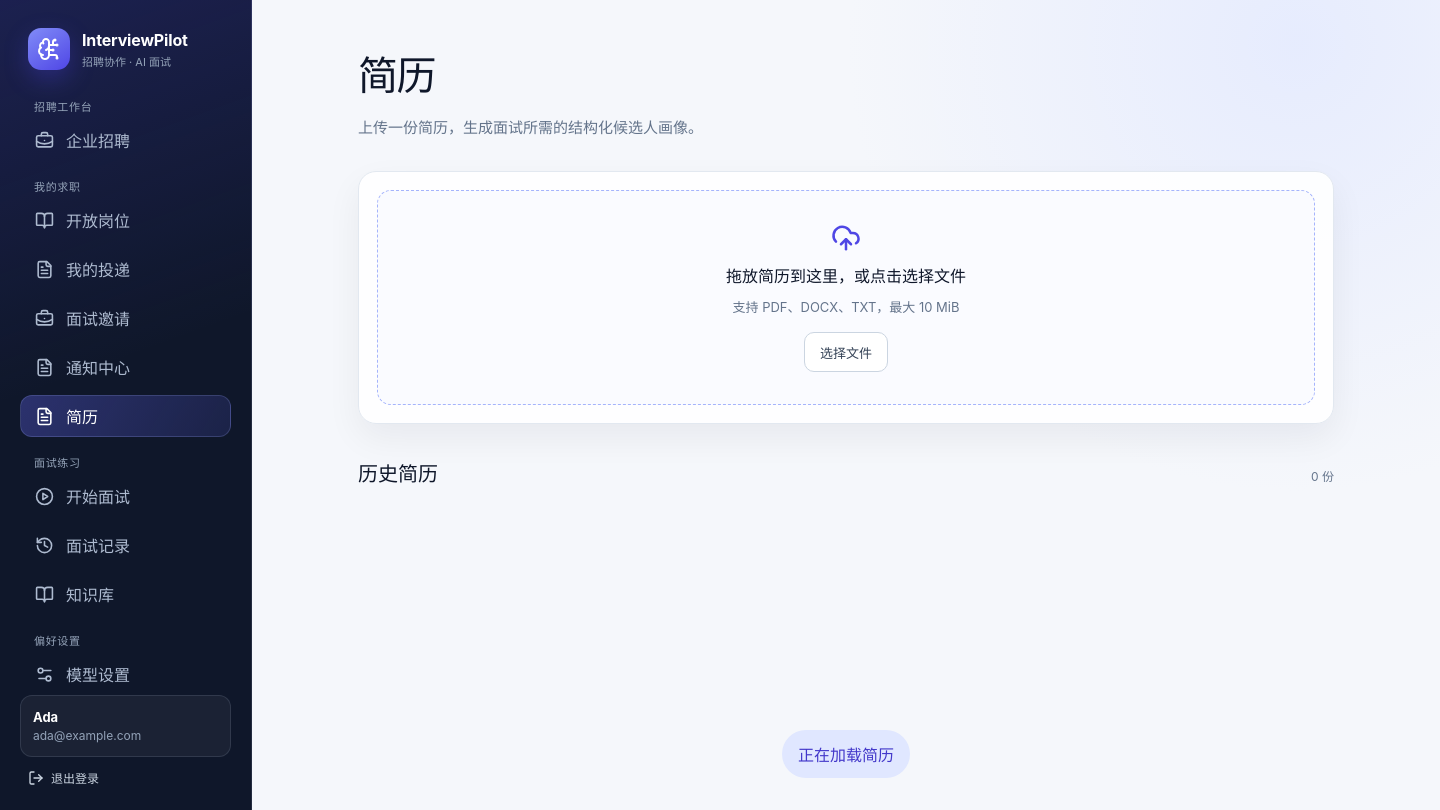
Test: 应用壳层 › 退出后清除登录状态并回到登录页
Check: the heading "简历" is shown, box [358,51,435,100]
Click the button "退出登录".
click(64, 778)  # box [28,769,99,786]
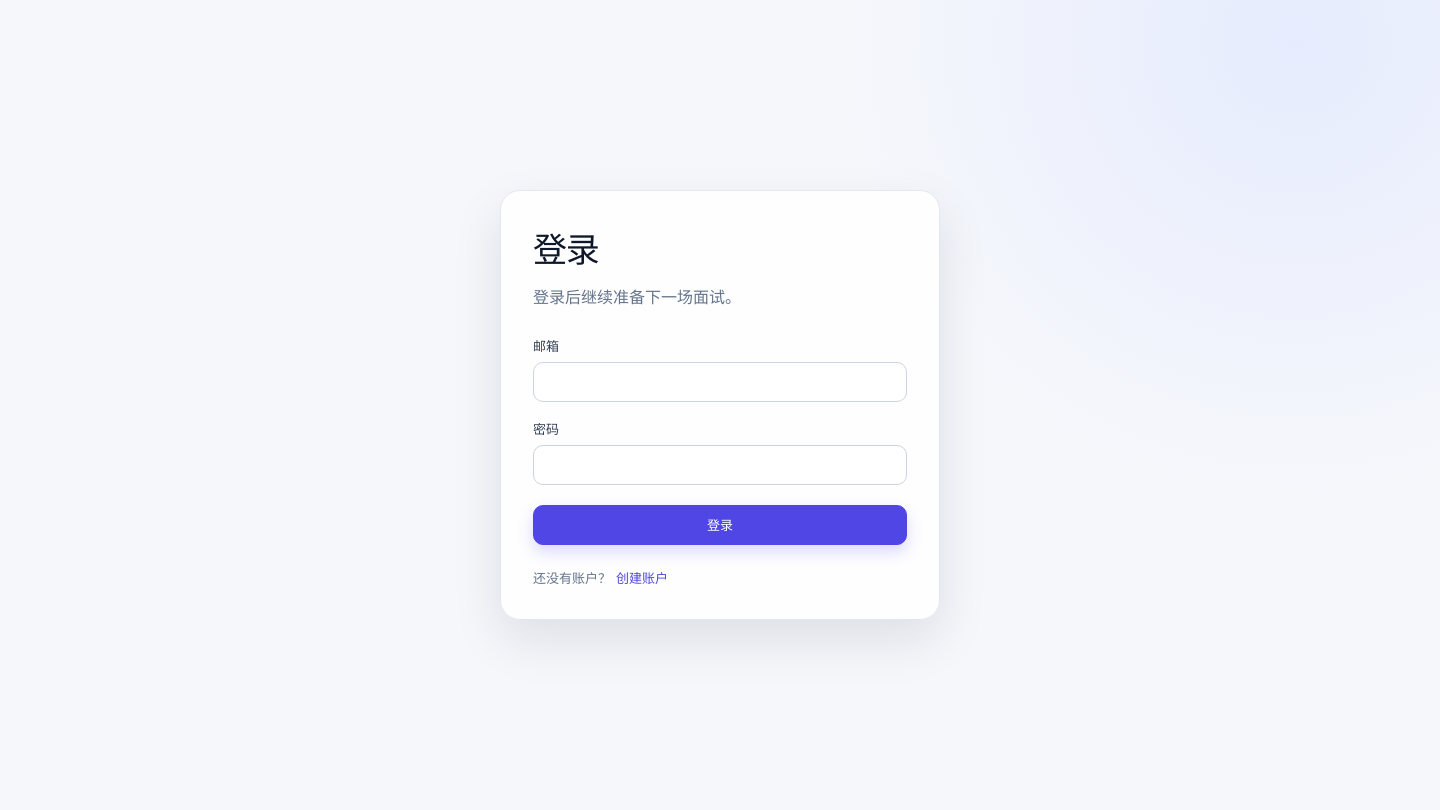
Check: the heading "登录" is shown, box [533,229,599,270]
